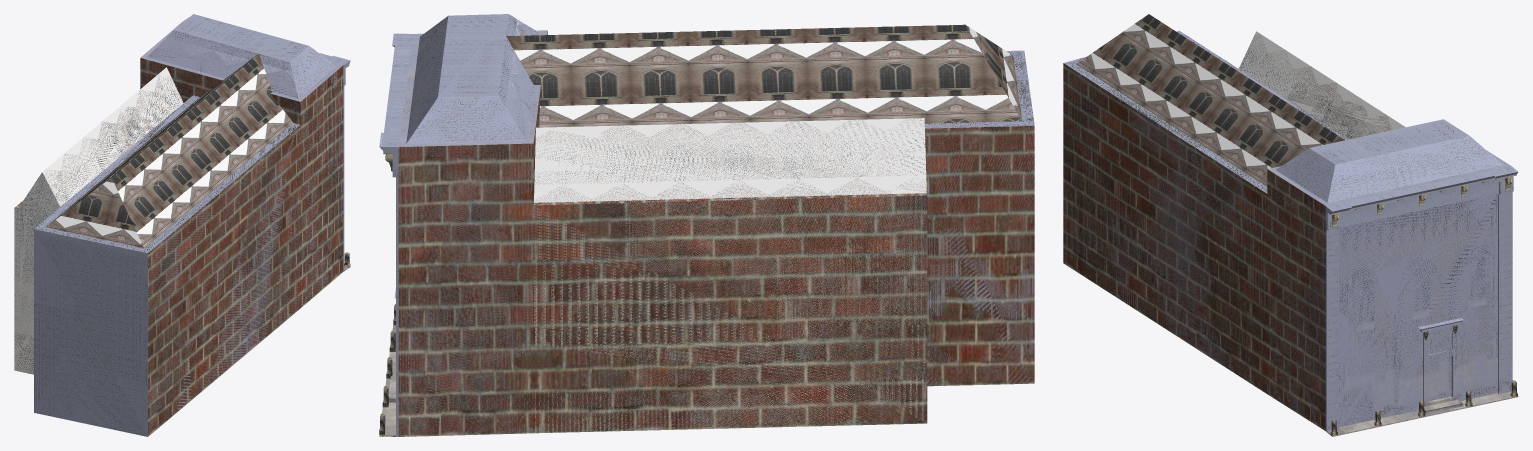
Rendered from House13.fbx.
The picture shows the model from 3 angles, left to right: view 1: azimuth 30°, elevation 25°; view 2: azimuth 150°, elevation 25°; view 3: azimuth 270°, elevation 25°; orthographic projection. The views are drawn at different scales.
Parts seen in each view (by area): view 1: Model, Group2; view 2: Model, Group2, Group1; view 3: Model, Group2, Group1.
Part boxes in pixels (x1,y1,x2,y2): Model: [14, 14, 350, 436]; Group2: [45, 54, 293, 248]; Model: [379, 14, 1034, 436]; Group2: [506, 24, 1022, 127]; Group1: [379, 325, 398, 436]; Model: [1063, 31, 1517, 430]; Group2: [1076, 14, 1344, 186]; Group1: [1325, 391, 1518, 436].
Size of the model in its own units: 28.23 by 16.04 by 26.37.
